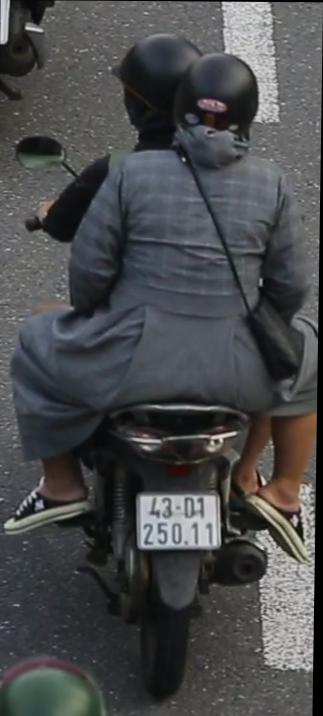LP: (133, 486, 226, 559)
helmet: (112, 27, 207, 150), (174, 45, 265, 158), (0, 665, 114, 716)
